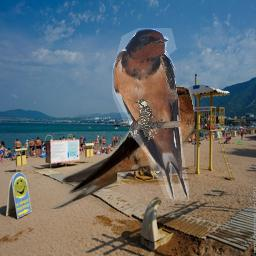Swallow: (45, 86, 195, 209), (112, 28, 189, 201)
Woodpecker: (133, 99, 157, 147)
